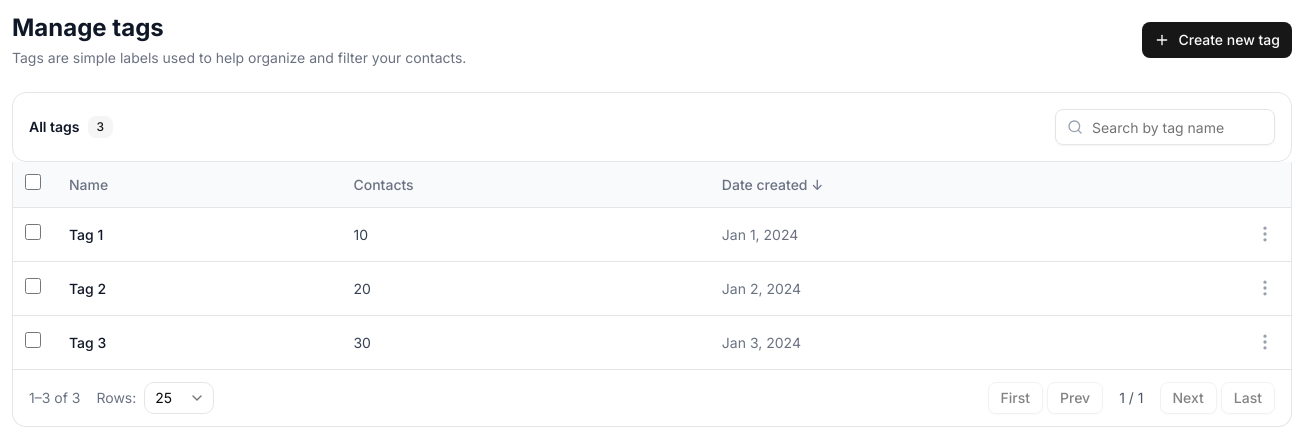
it: TagsManager › deselect-all unchecks all tags
The image size is (1304, 444).
Click the checkbox next to "Name": click(33, 182) [25,174,41,190]
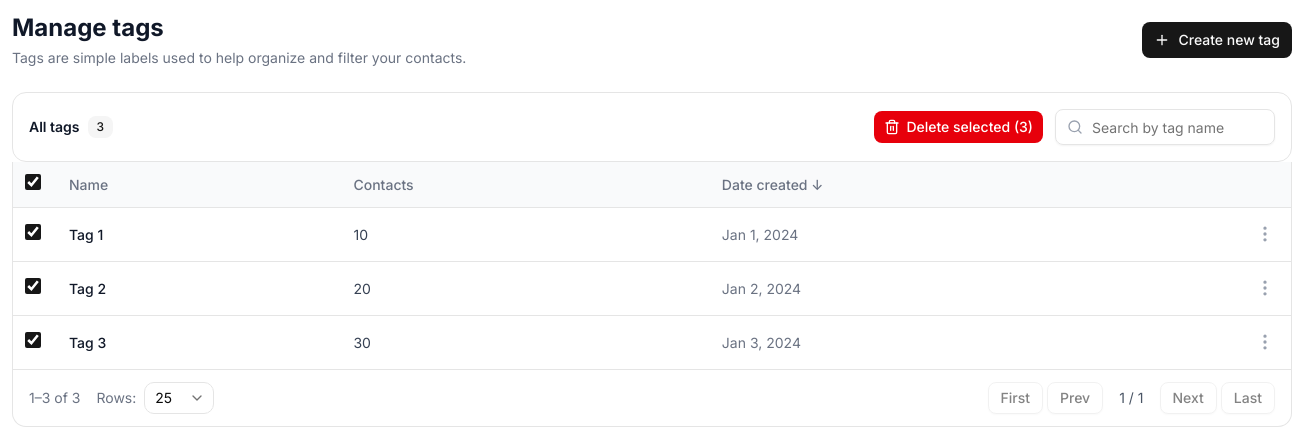
Click the checkbox next to "Name": click(33, 182) [25,174,41,190]
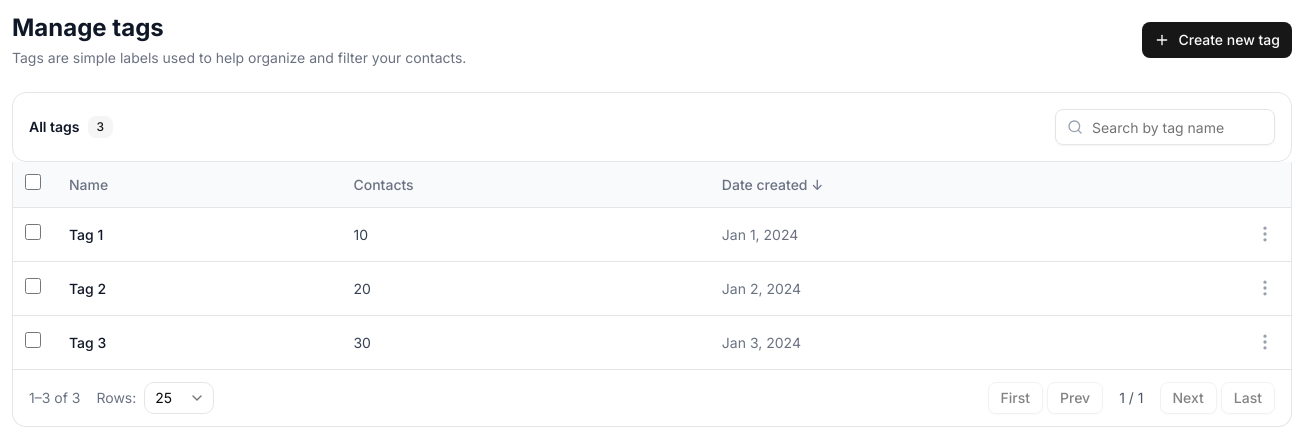
Expected: the checkbox next to "Tag 1" is not checked, [25,224,41,240]
Expected: the checkbox next to "Tag 2" is not checked, [25,278,41,294]
Expected: the checkbox next to "Tag 3" is not checked, [25,332,41,348]
